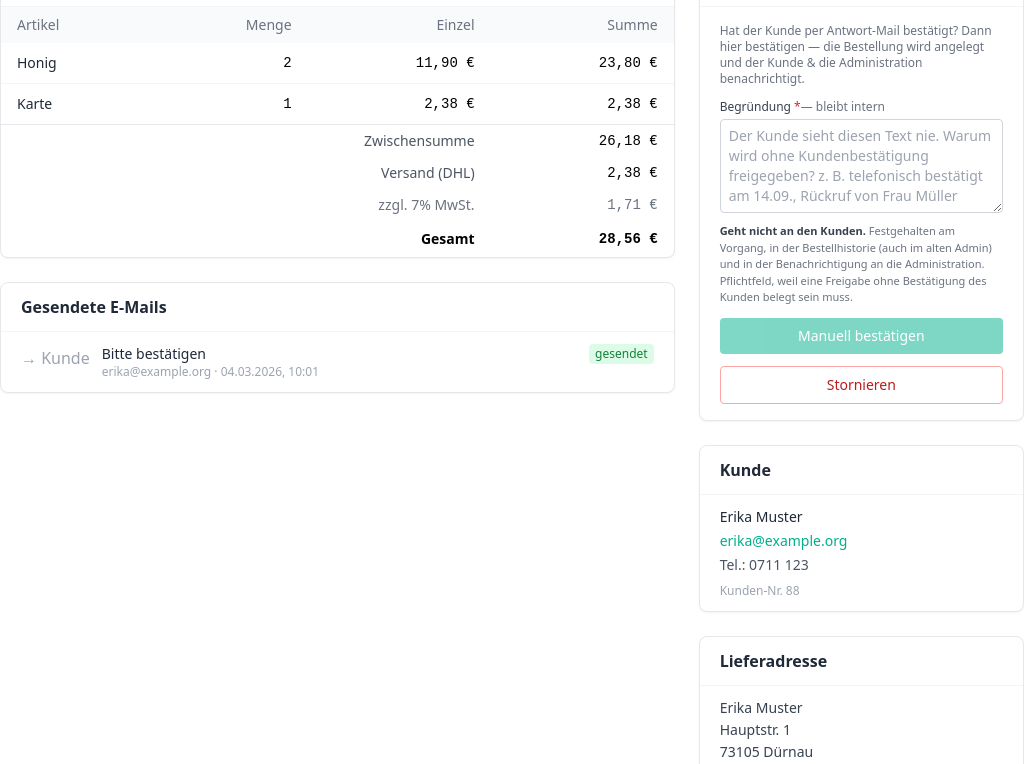
Test case: confirming by hand › cancels the process
The width and height of the screenshot is (1024, 764).
(page scrolled)
Click the button "Stornieren" at (861, 384), box [720,366,1003,404]
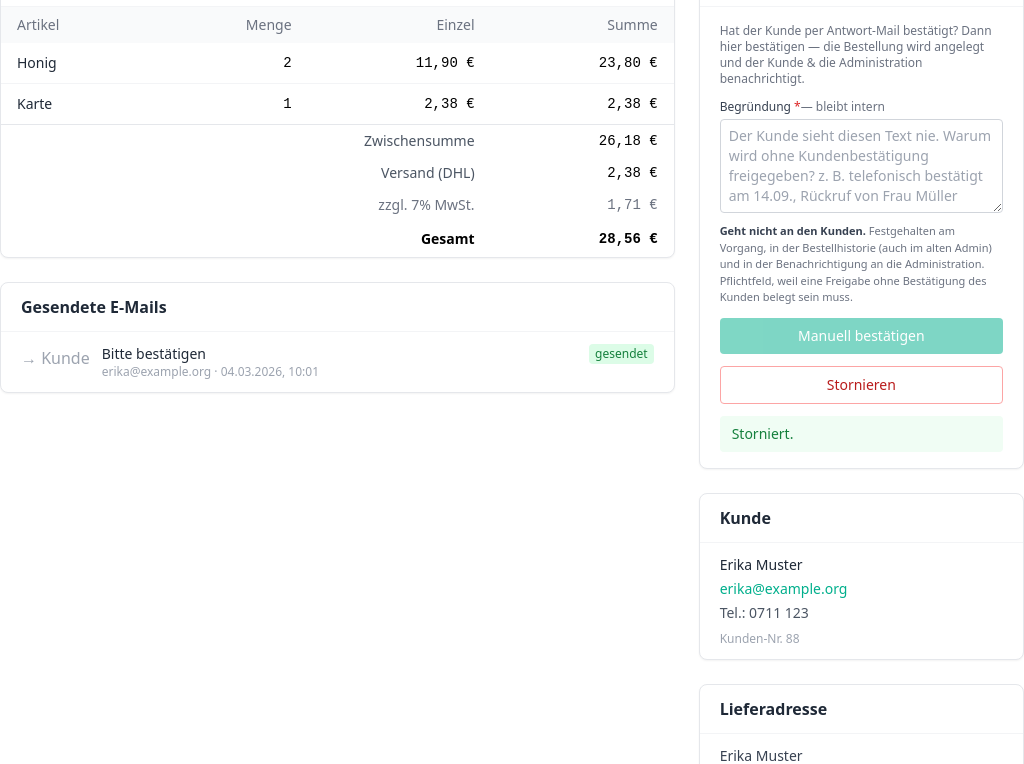
Result: the text "Storniert." is shown at [720,416,1003,452]
